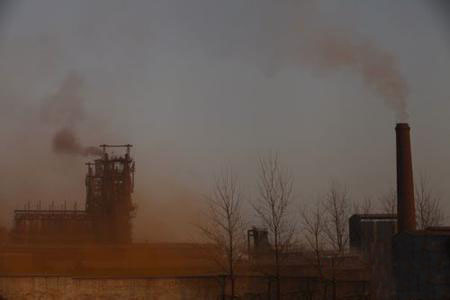dust: (338, 44, 415, 130), (45, 108, 117, 160)
